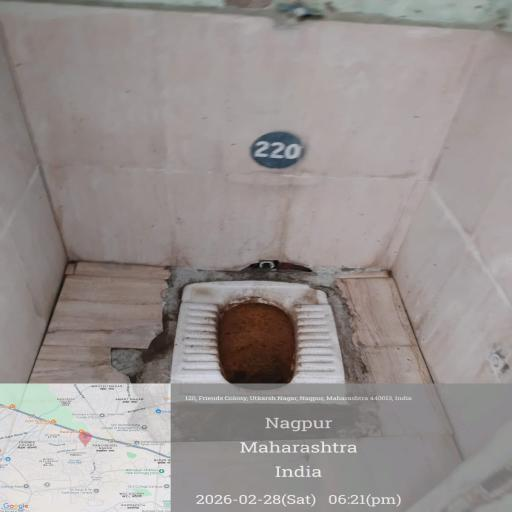clean_floor: (14, 8, 490, 256)
damage: (102, 259, 404, 483)
dirty_indian: (159, 282, 357, 429)
